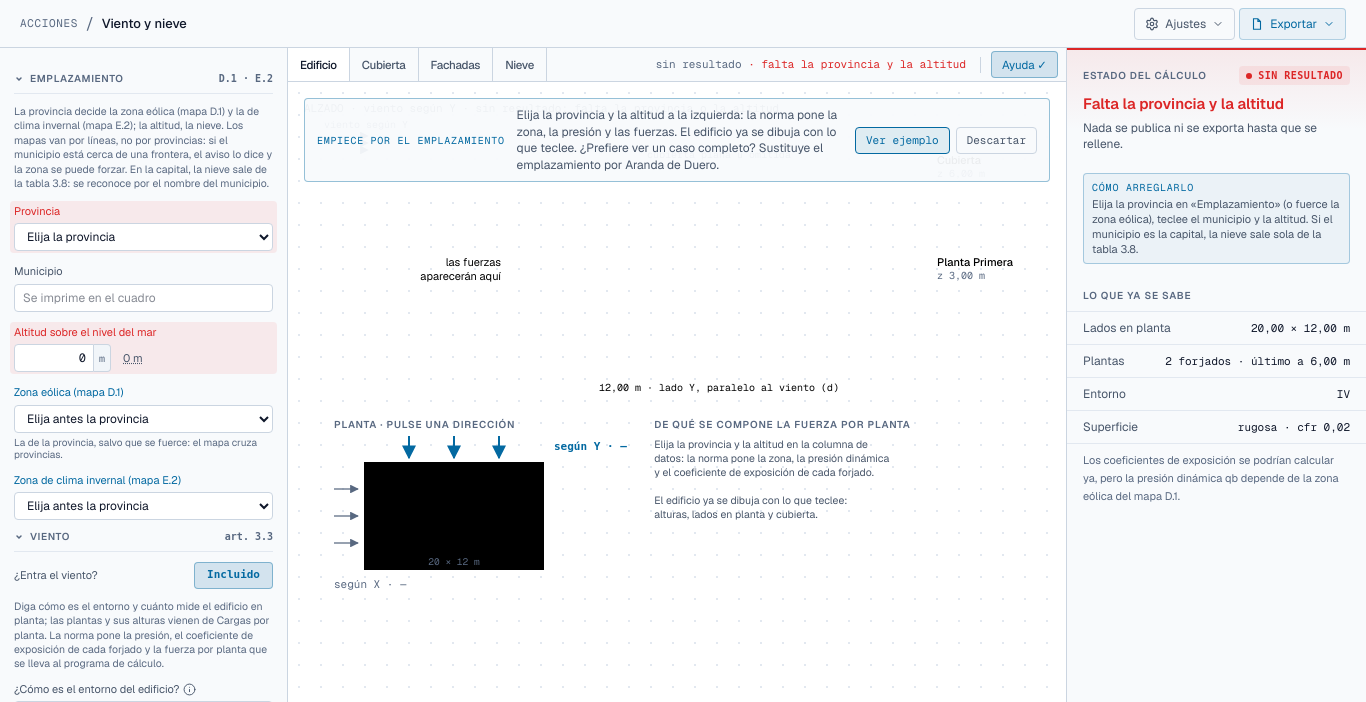
Test: Guardar en el anejo desde «Exportar» › la opción está en su grupo, y el modal dice a dónde va el PDF
Select "Madrid" in the dropdown named "Provincia" at (144, 237), box [14, 223, 273, 251]
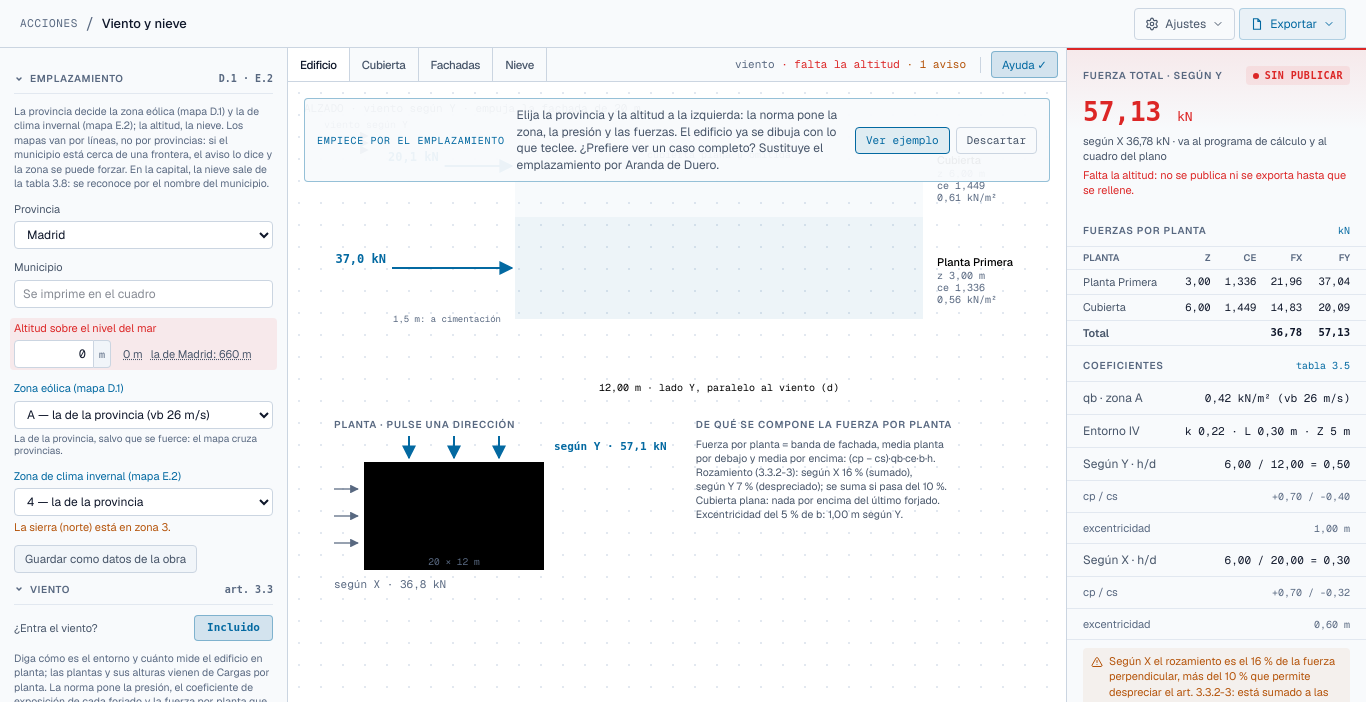
Replace the text in the field named "Altitud" with "660" at (54, 354), box [14, 340, 94, 368]
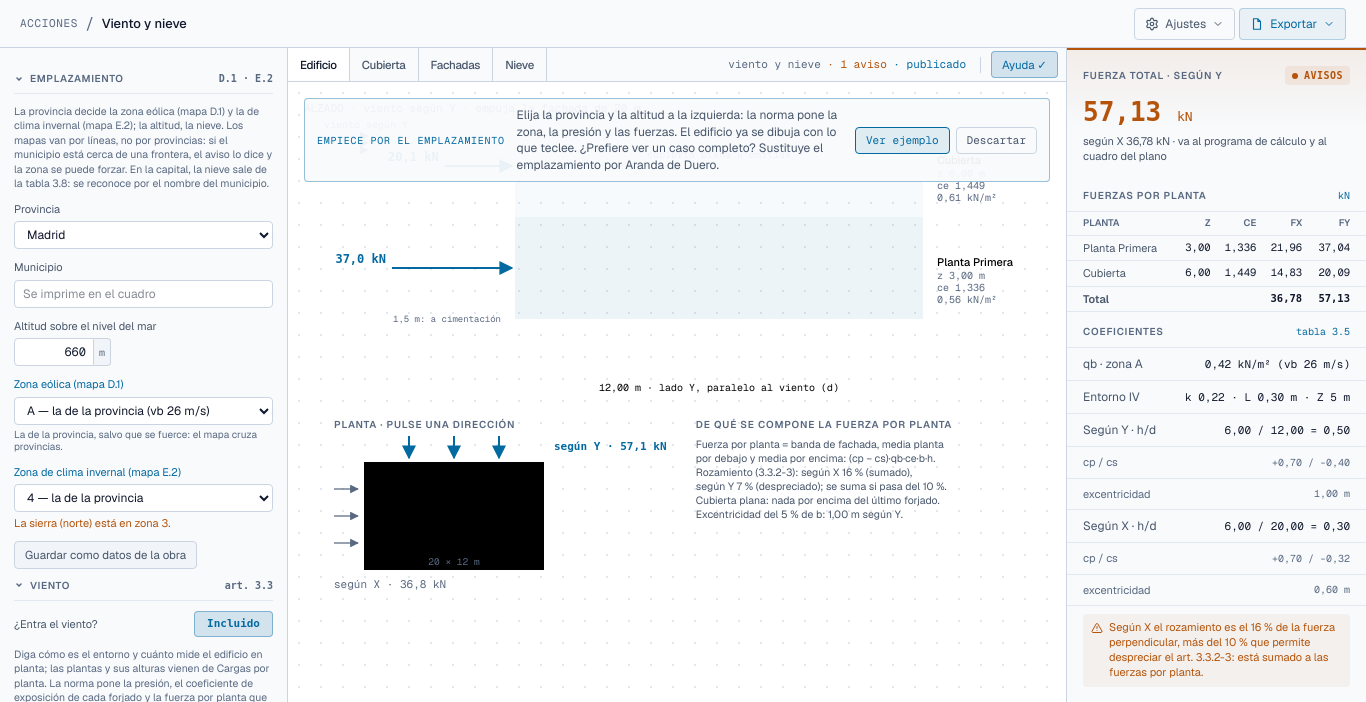
Click the button "Exportar" at (1293, 24), box [1239, 8, 1346, 40]
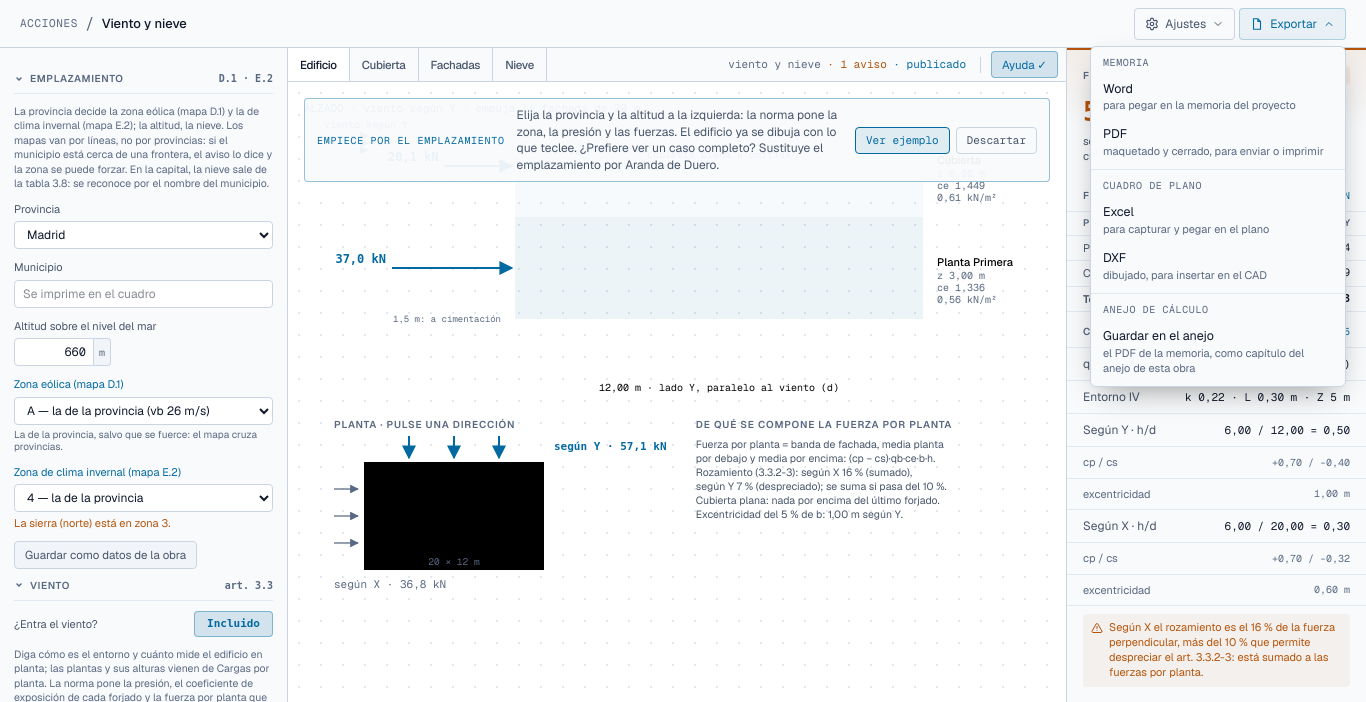
Click the menu item "Guardar en el anejo" at (1218, 352), box [1091, 321, 1345, 382]
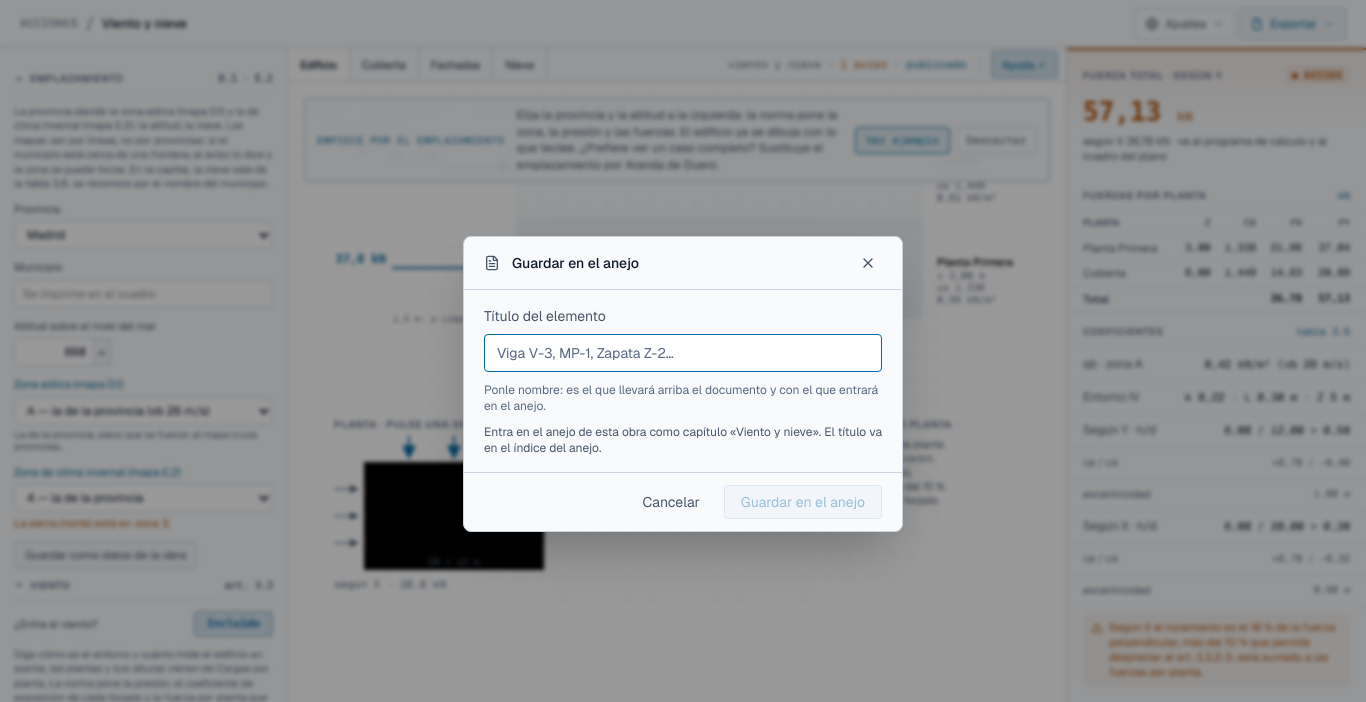
Now the text "Entra en el anejo de esta obra como capítulo «Viento y nieve»" is shown, box [484, 424, 882, 456]
Now the button "Guardar en el anejo" is shown, box [724, 485, 882, 519]
